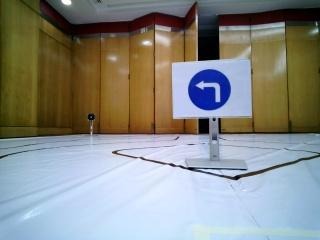left: (173, 65, 241, 115)
